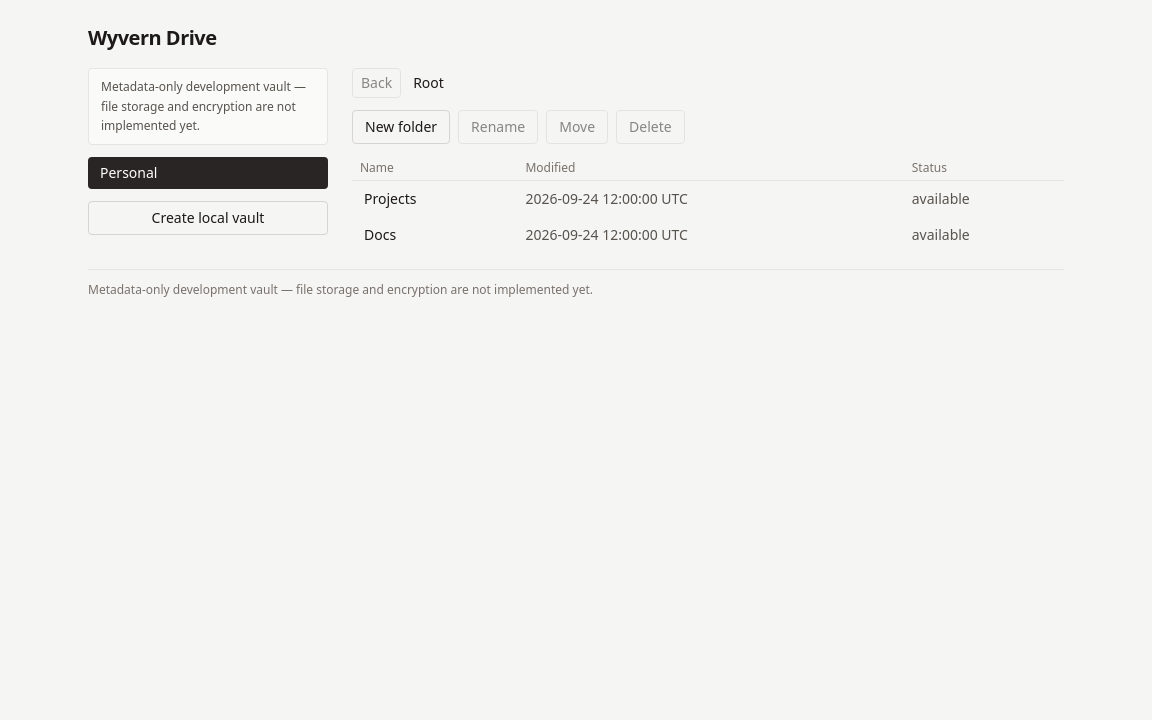
Test case: move destination navigation › opens destinations on single click and hides the source
Click the button "Docs": (380,235) x1=360 y1=223 x2=400 y2=247
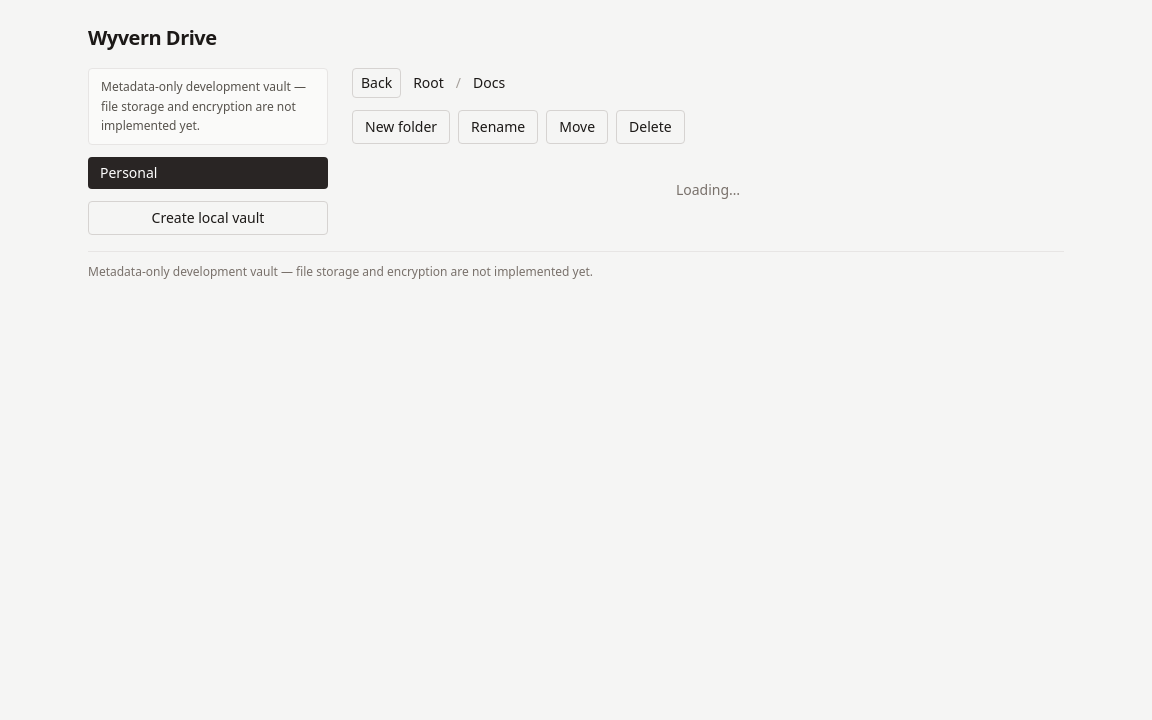
Click the button "Move": (577,127) x1=546 y1=110 x2=608 y2=144
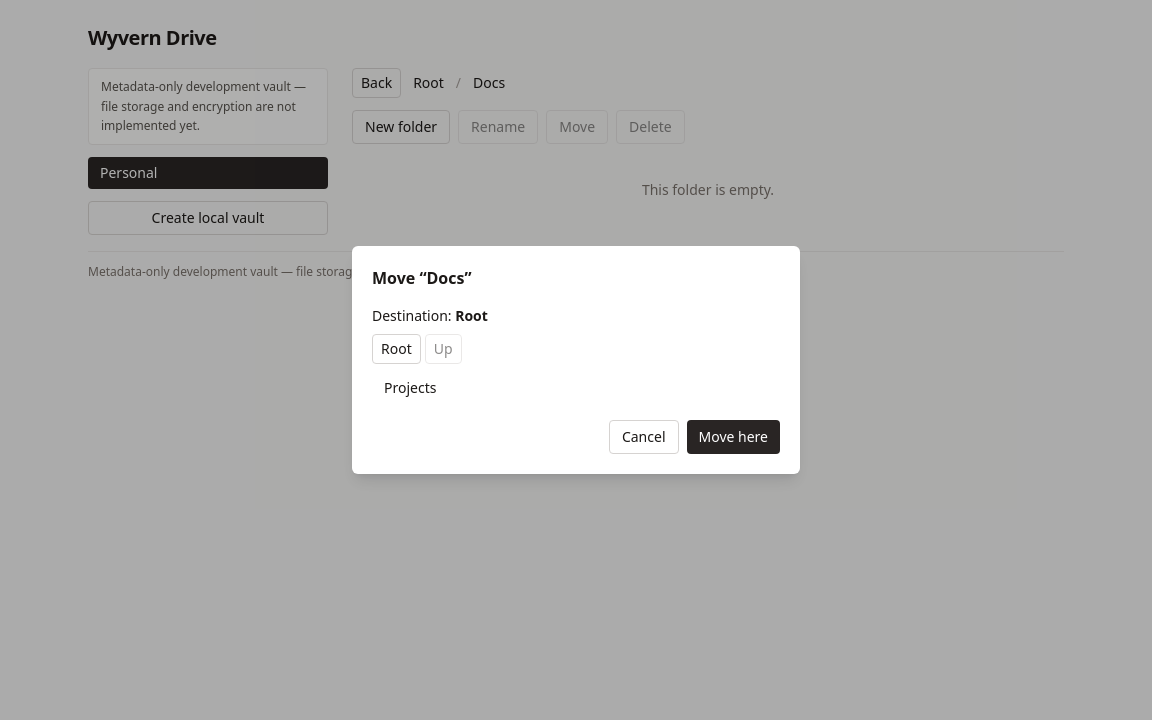
A single click (keyboard-equivalent activation) descends.
Click the button "Projects": (410,388) x1=372 y1=372 x2=780 y2=404
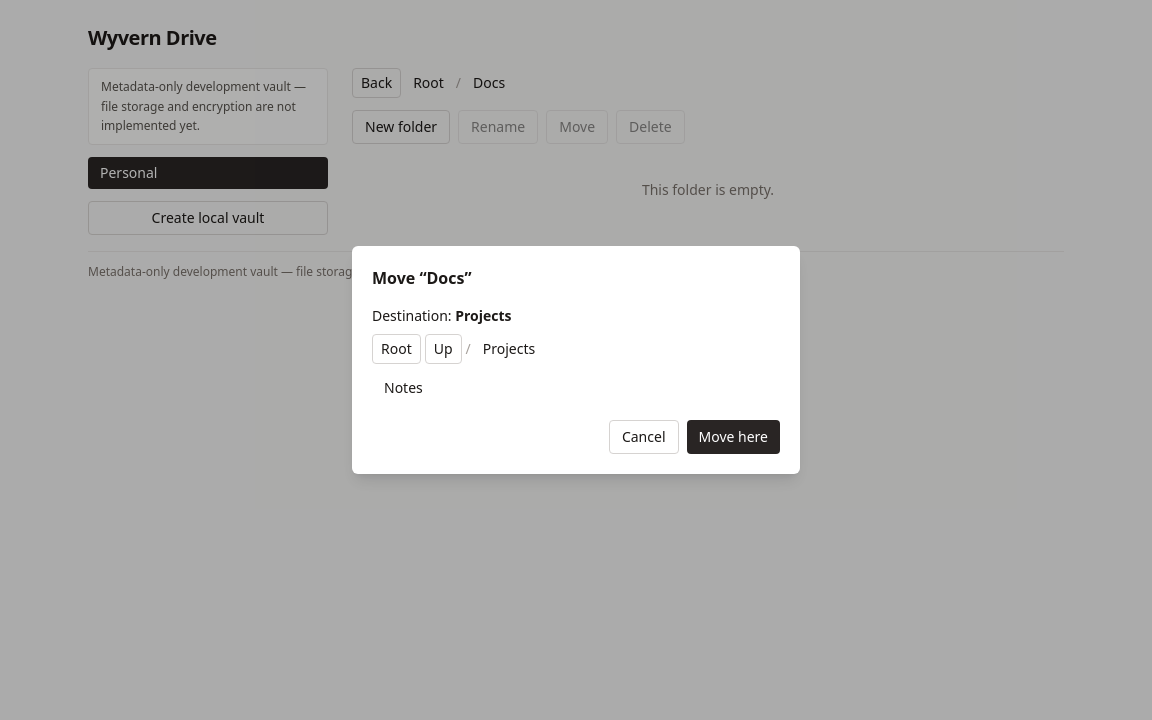
Result: the button "Notes" is shown at x1=372 y1=372 x2=780 y2=404
Result: the button "Projects" is shown at x1=475 y1=335 x2=543 y2=363
